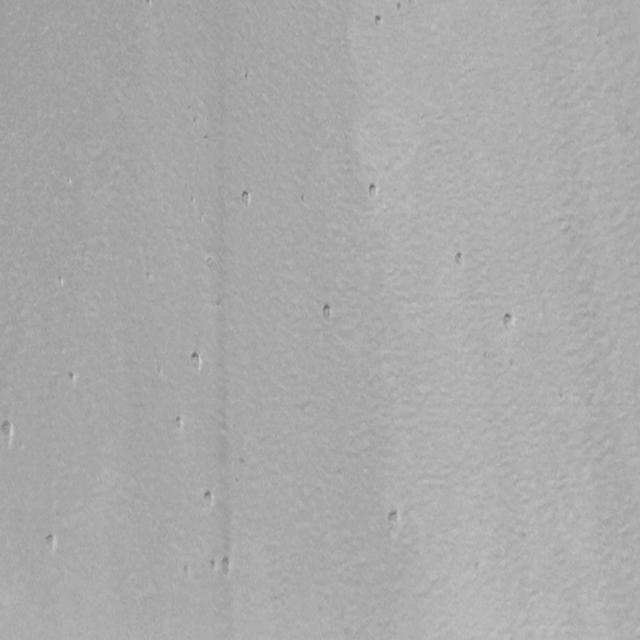pin holes: (384, 506, 404, 534), (498, 310, 520, 334), (186, 350, 207, 375), (40, 532, 60, 558), (1, 419, 18, 449), (316, 301, 337, 325), (364, 180, 384, 204), (450, 247, 469, 270), (171, 414, 190, 436), (238, 187, 256, 209), (220, 554, 236, 578), (200, 489, 218, 510), (394, 0, 412, 15), (65, 369, 79, 387), (372, 13, 386, 30), (242, 66, 253, 87), (207, 557, 220, 574), (140, 0, 153, 11)
